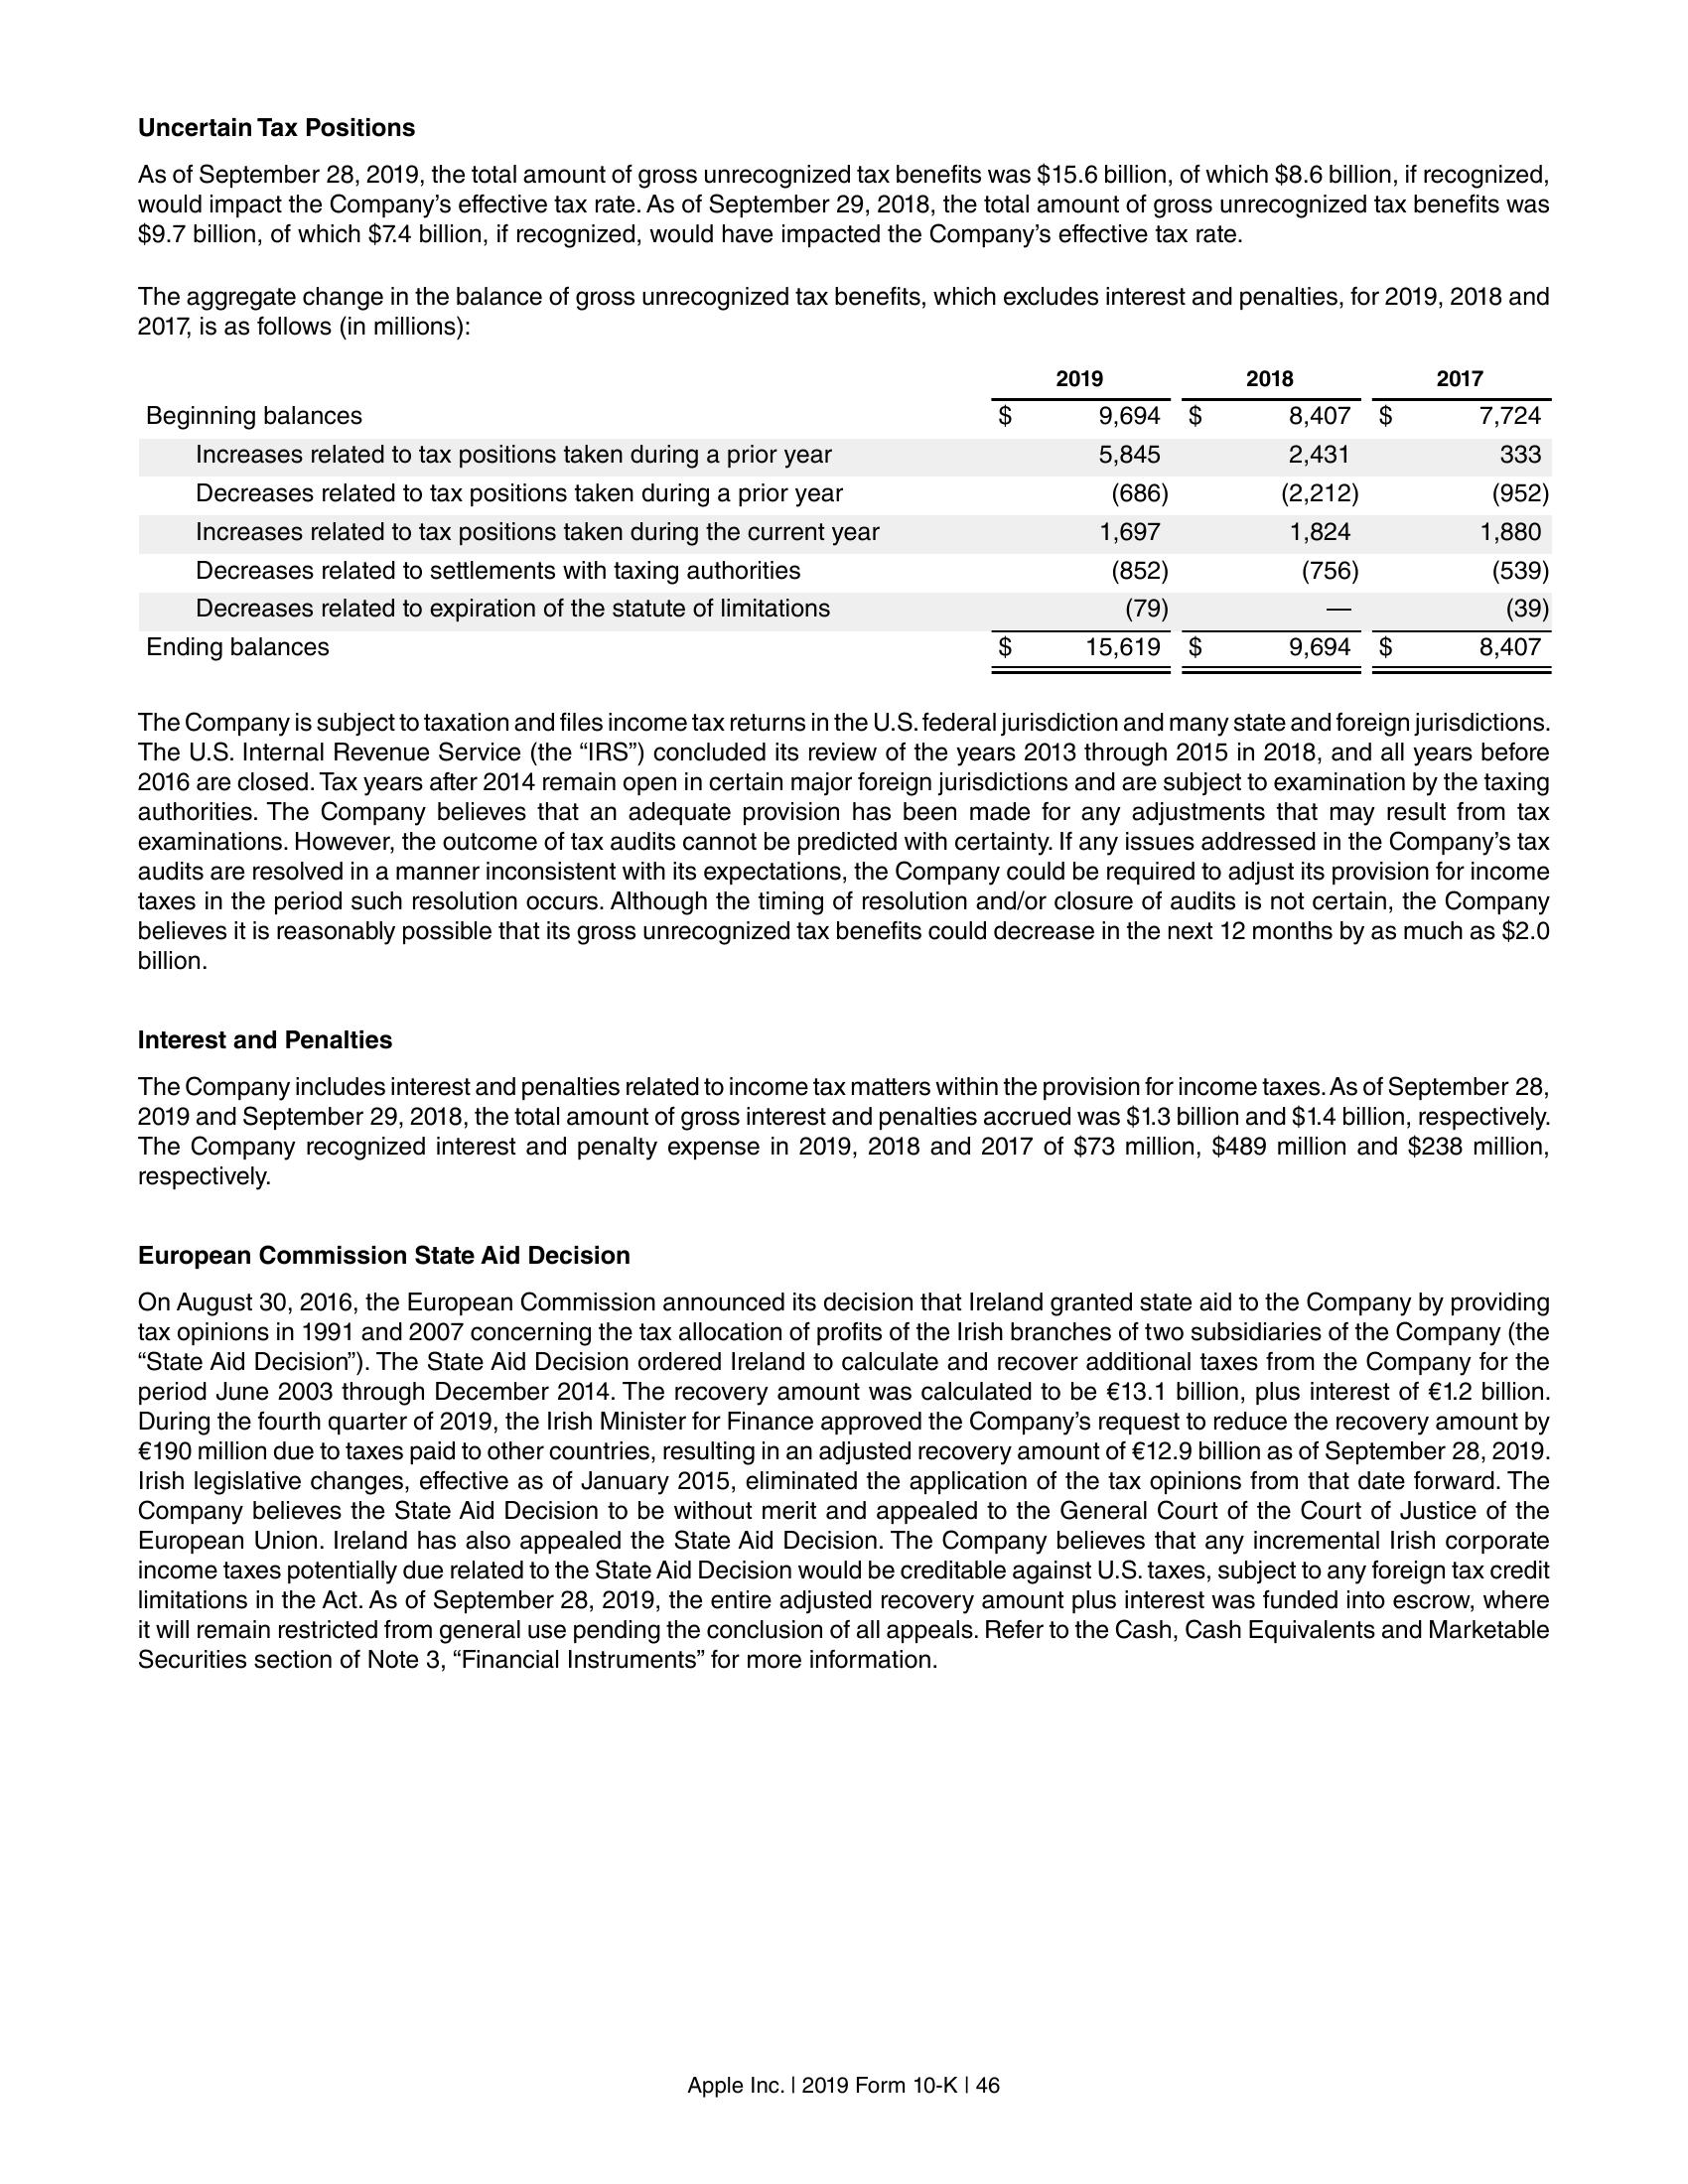table: (129, 367, 1551, 682)
